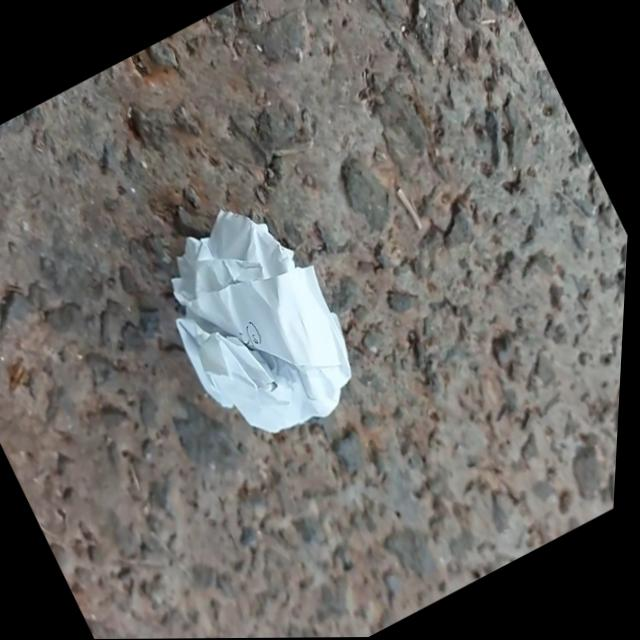paper: (172, 211, 350, 431)
